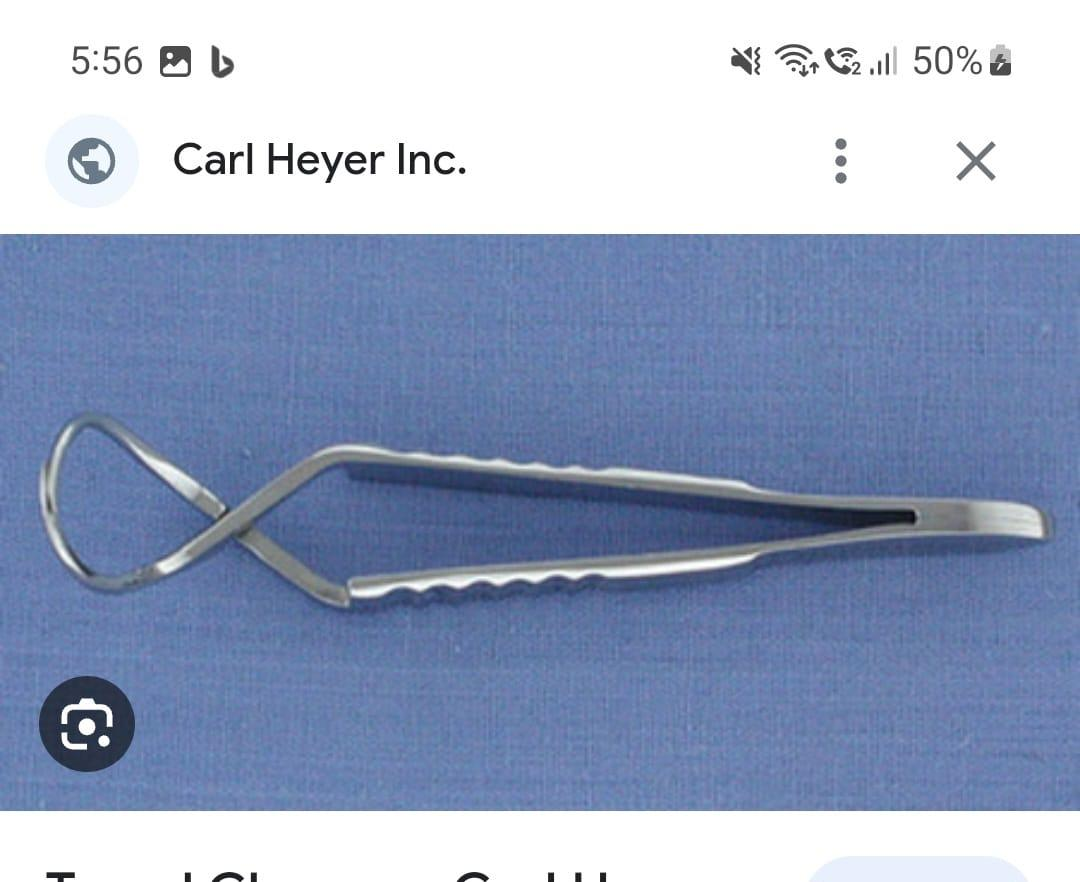Jones Towel Clamp: (20, 399, 1056, 604)
